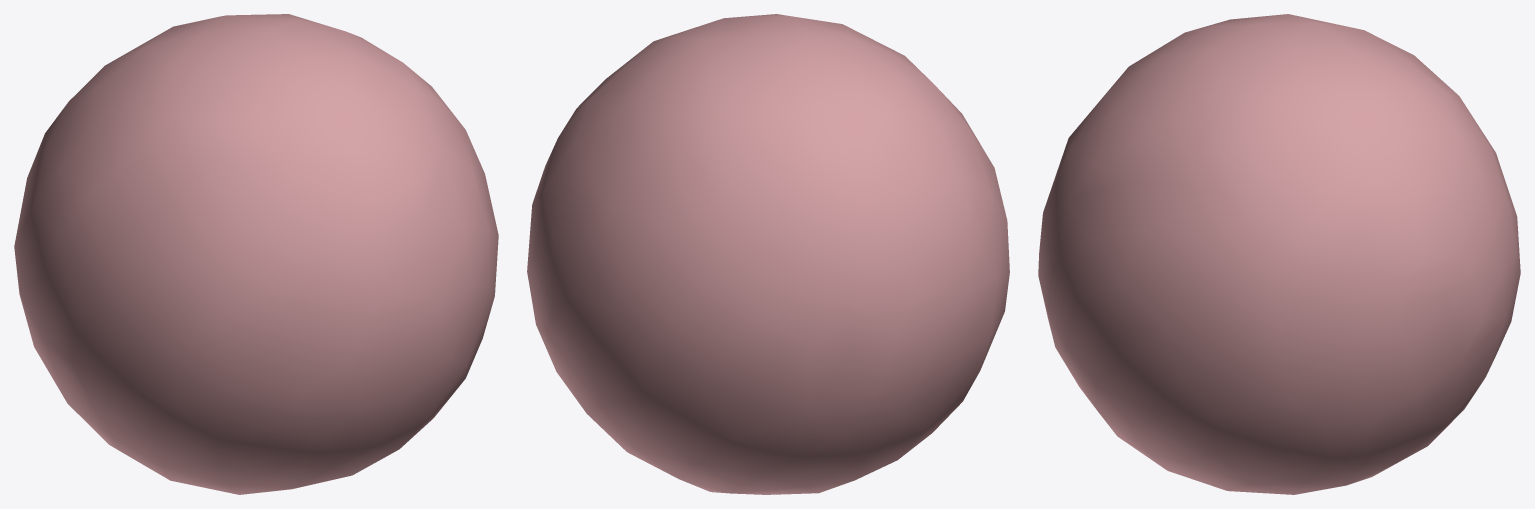
File: fma75015_mm3088.glb
3 views of the same model, side by side, from view 1: azimuth 30°, elevation 25°; view 2: azimuth 150°, elevation 25°; view 3: azimuth 270°, elevation 25° (orthographic).
Visible parts, largest first — view 1: FMA75015_MM3088; view 2: FMA75015_MM3088; view 3: FMA75015_MM3088.
Part boxes in pixels (x1,y1,x2,y2): FMA75015_MM3088: [14, 14, 498, 494]; FMA75015_MM3088: [527, 14, 1009, 494]; FMA75015_MM3088: [1038, 14, 1520, 494].
Bounding box in the file's own units: 0.00303 × 0.00304 × 0.00305.
